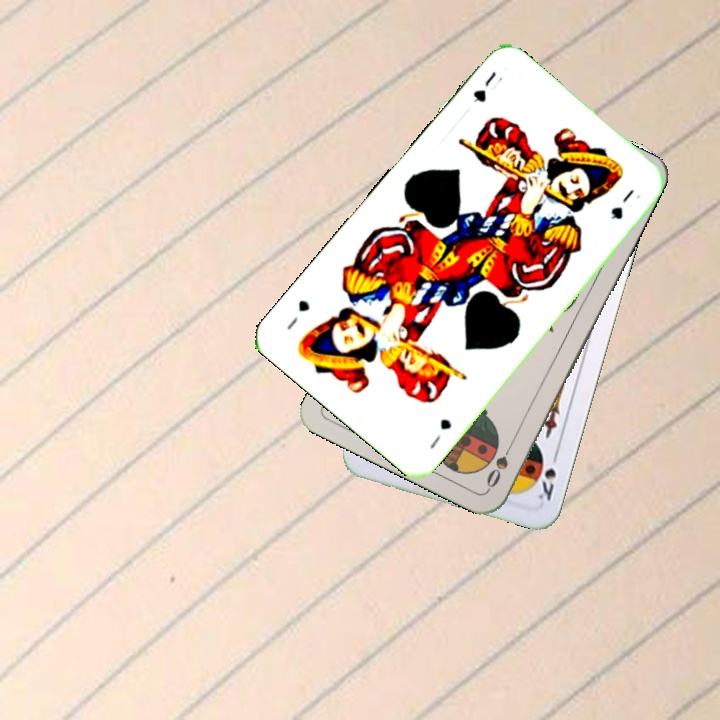GU: (469, 67, 506, 105), (425, 414, 455, 452)
SK: (532, 447, 561, 504)
SO: (482, 436, 517, 491)
